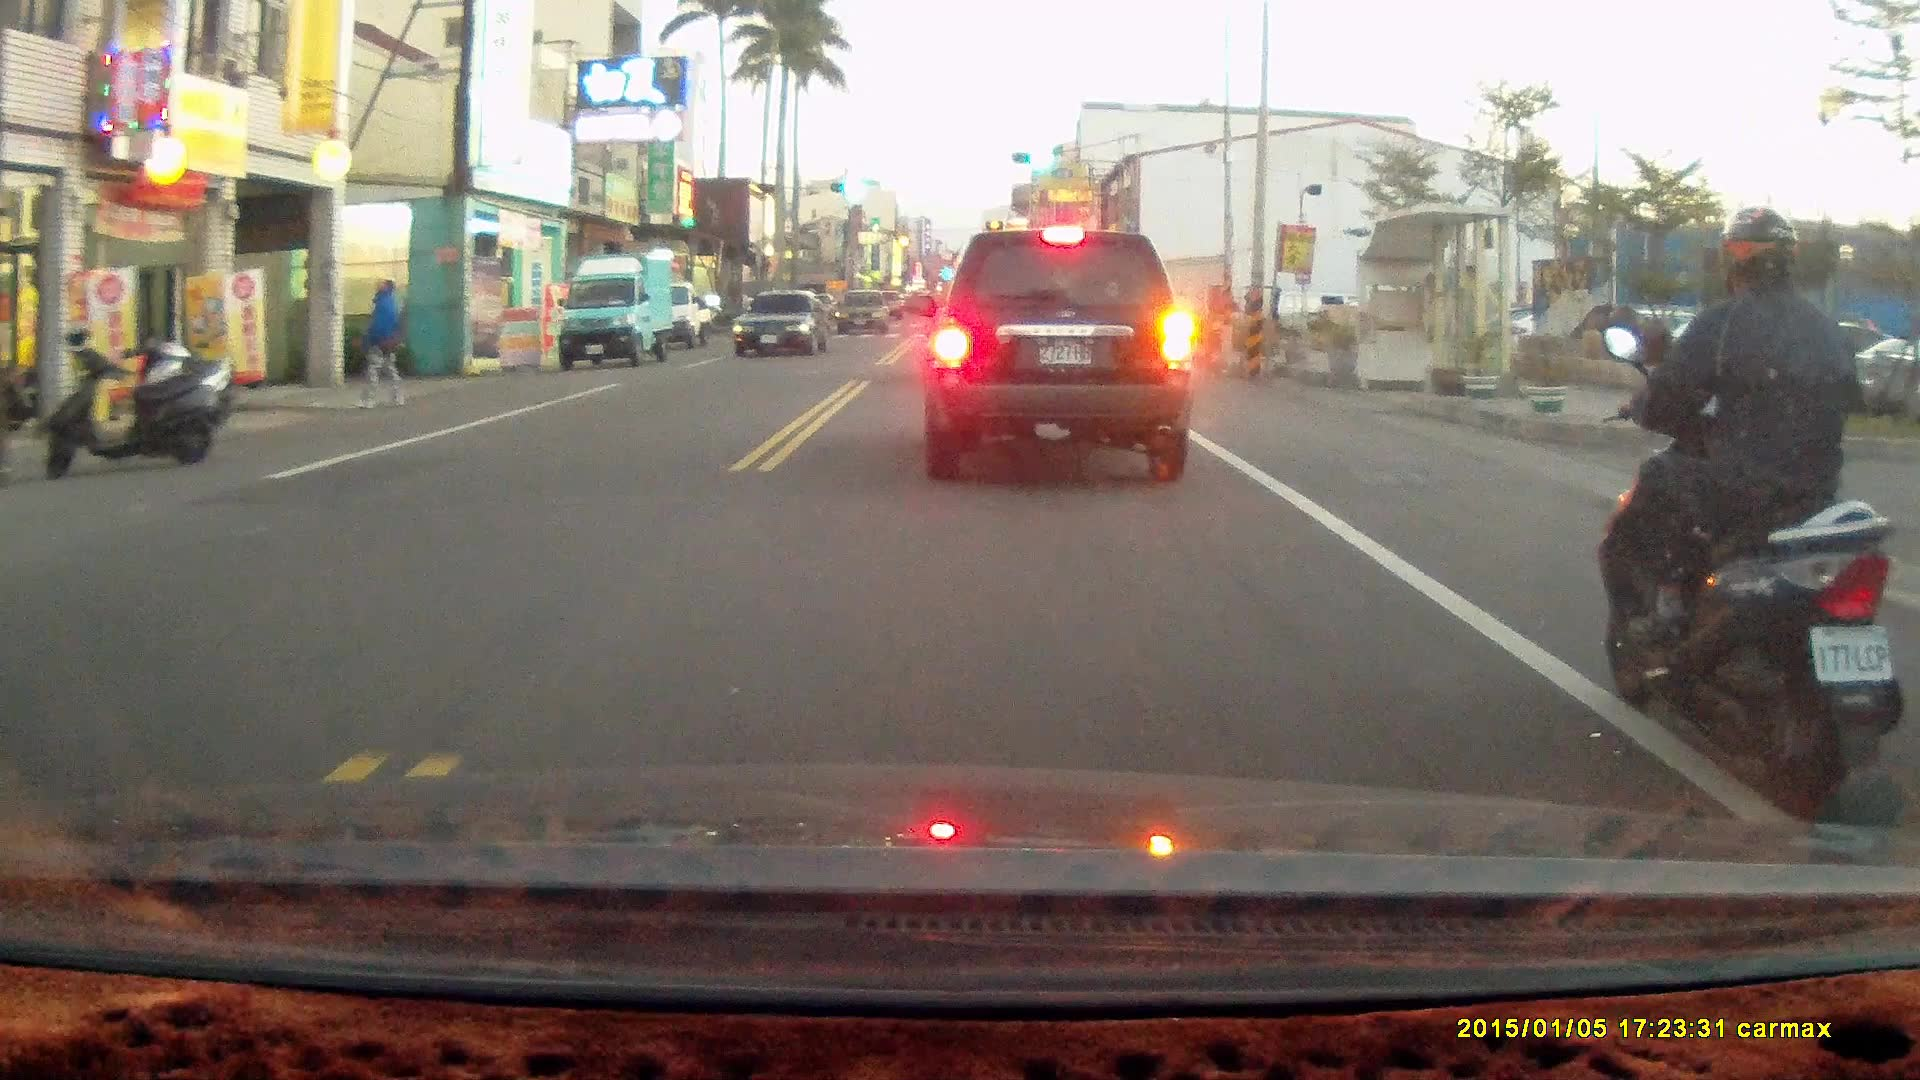pedestrian: (352, 276, 408, 411)
rider: (1595, 202, 1903, 815)
vehicle: (916, 230, 1199, 484), (557, 254, 678, 372), (731, 291, 833, 362), (834, 290, 891, 337)
